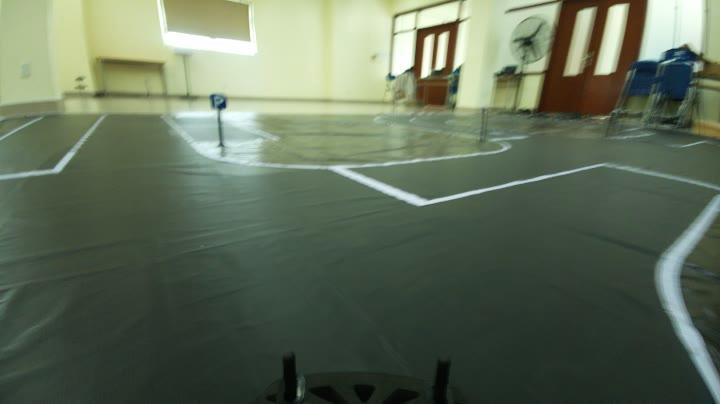parking: (209, 90, 226, 110)
